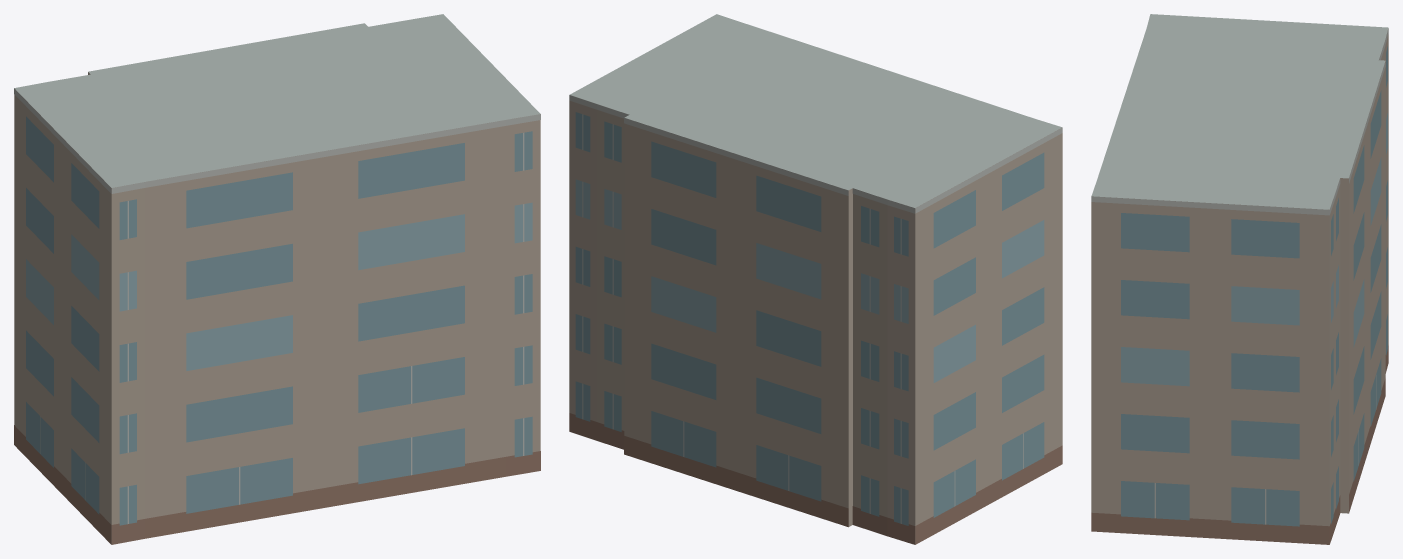
The model's file is survey-upis-32659431.glb.
3 renders of one model, left to right at view 1: azimuth 30°, elevation 25°; view 2: azimuth 150°, elevation 25°; view 3: azimuth 270°, elevation 25°, orthographic. The views are drawn at different scales.
Visible parts, largest first — view 1: survey-upis-32659431.tmp; view 2: survey-upis-32659431.tmp; view 3: survey-upis-32659431.tmp.
Part boxes in pixels (left/top/right/bottom): survey-upis-32659431.tmp: left=14, top=14, right=540, bottom=544; survey-upis-32659431.tmp: left=569, top=14, right=1062, bottom=544; survey-upis-32659431.tmp: left=1091, top=14, right=1388, bottom=544.
Bounding box in the file's own units: 18.24 × 14.55 × 11.71.
